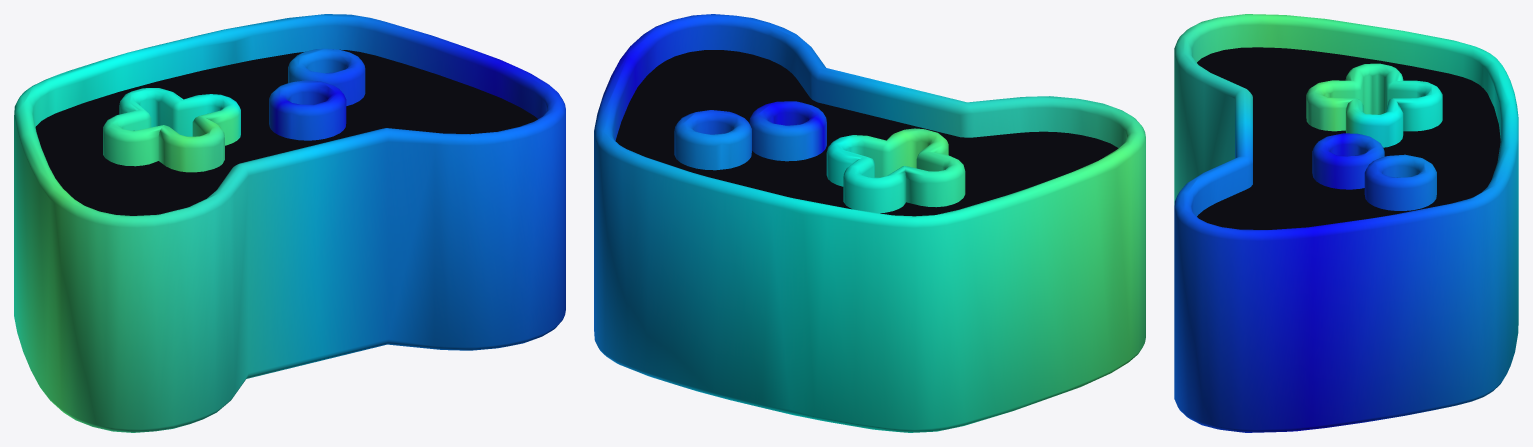
Rendered from Particle-27.dae.
The picture shows the model from 3 angles, left to right: view 1: azimuth 30°, elevation 25°; view 2: azimuth 150°, elevation 25°; view 3: azimuth 270°, elevation 25°; orthographic projection. The views are drawn at different scales.
Visible parts, largest first — view 1: Particle; view 2: Particle; view 3: Particle.
Part boxes in pixels (x1,y1,x2,y2): Particle: [14, 14, 565, 432]; Particle: [594, 14, 1145, 432]; Particle: [1174, 14, 1518, 432].
Size of the model in its own units: 0.1168 by 0.049 by 0.0761.
Materials: 2 (1 with a texture image).
